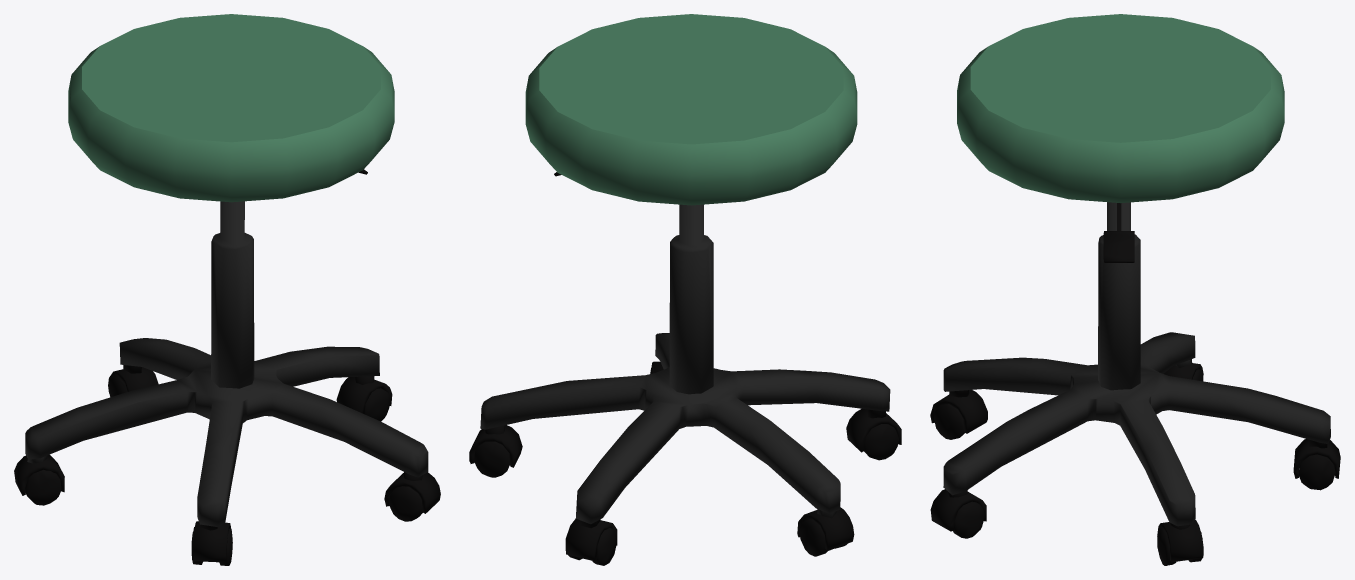
The model's file is Stool 1.FBX.
3 views of the same model, side by side, from view 1: azimuth 30°, elevation 25°; view 2: azimuth 150°, elevation 25°; view 3: azimuth 270°, elevation 25° (orthographic).
Visible parts, largest first — view 1: Stool 1; view 2: Stool 1; view 3: Stool 1.
Boxes of the visible parts, x1=… form: Stool 1: x1=14, y1=14, x2=440, y2=565; Stool 1: x1=469, y1=14, x2=901, y2=565; Stool 1: x1=930, y1=14, x2=1340, y2=565.
Bounding box in the file's own units: 25.58 × 24.35 × 26.46.
2 materials, 2 textured.
